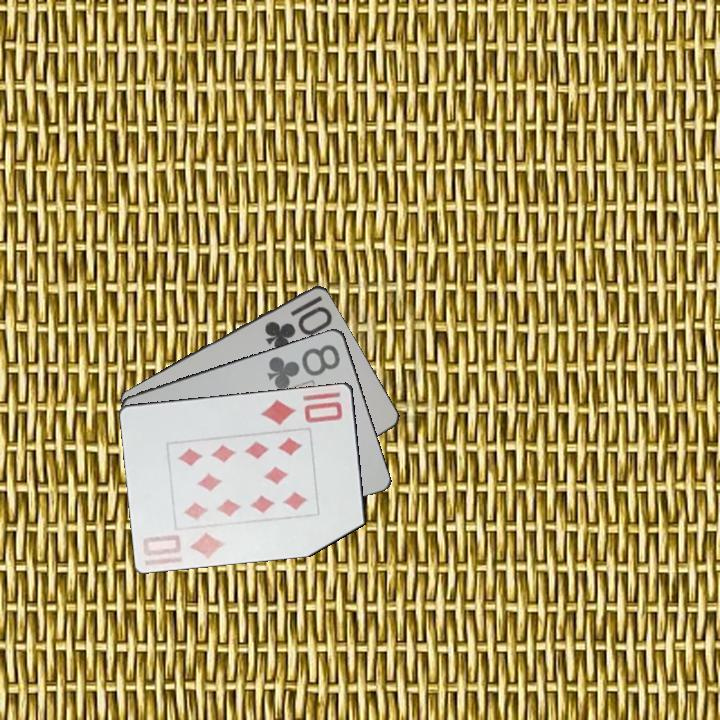8c: (264, 339, 343, 391)
Tc: (261, 291, 335, 352)
Td: (139, 528, 229, 560), (257, 396, 346, 428)
